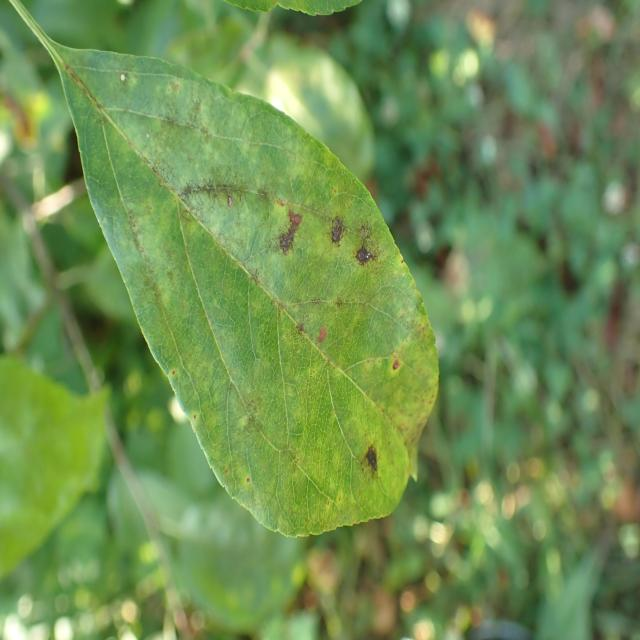scab: (51, 38, 447, 528)
